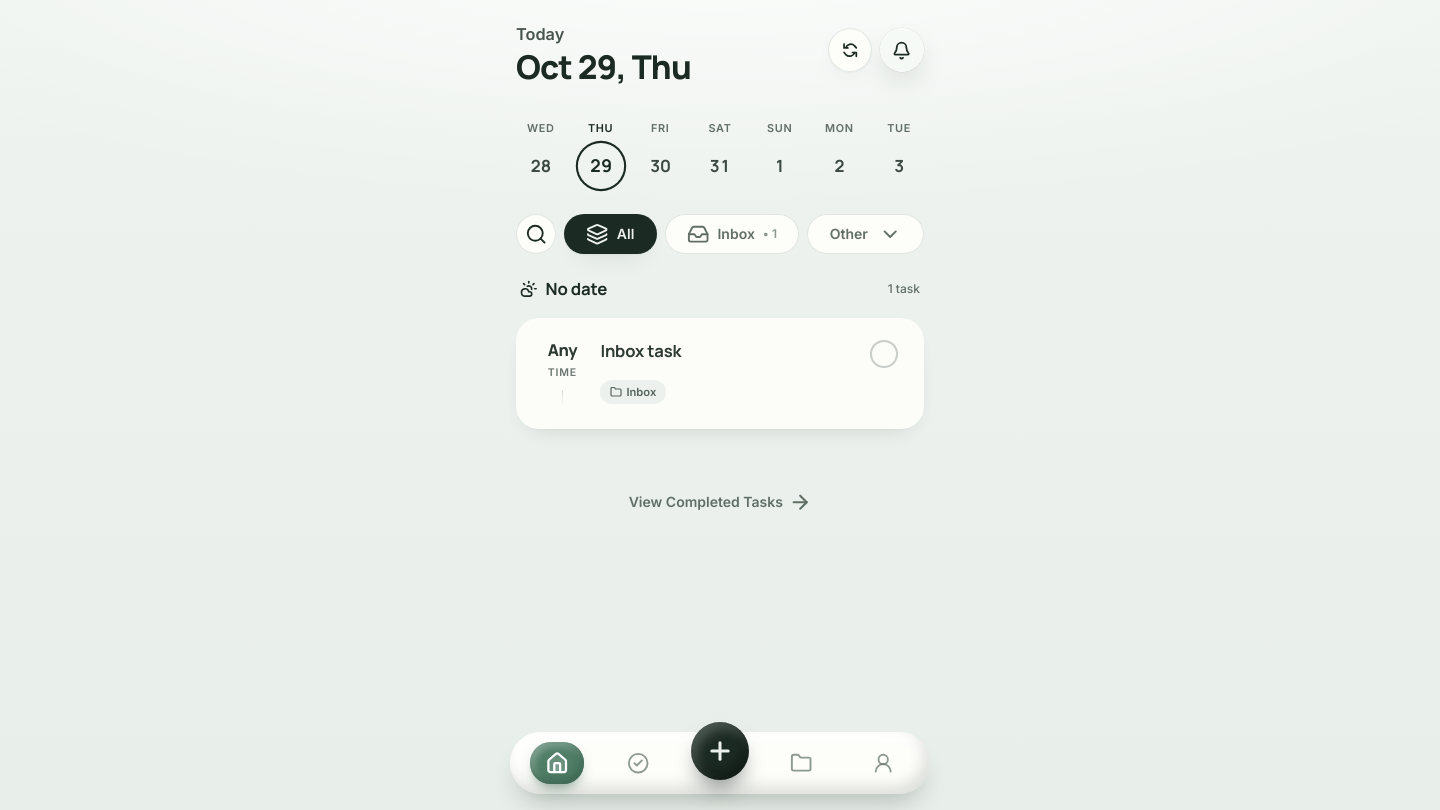
Test: tasks flow › searches all groups and keeps the query visible for empty and failed results
Expected: the heading "Inbox task" is shown, [600,339,681,362]
Click the button named "Search tasks" at [536, 234], box [516,214,556,254]
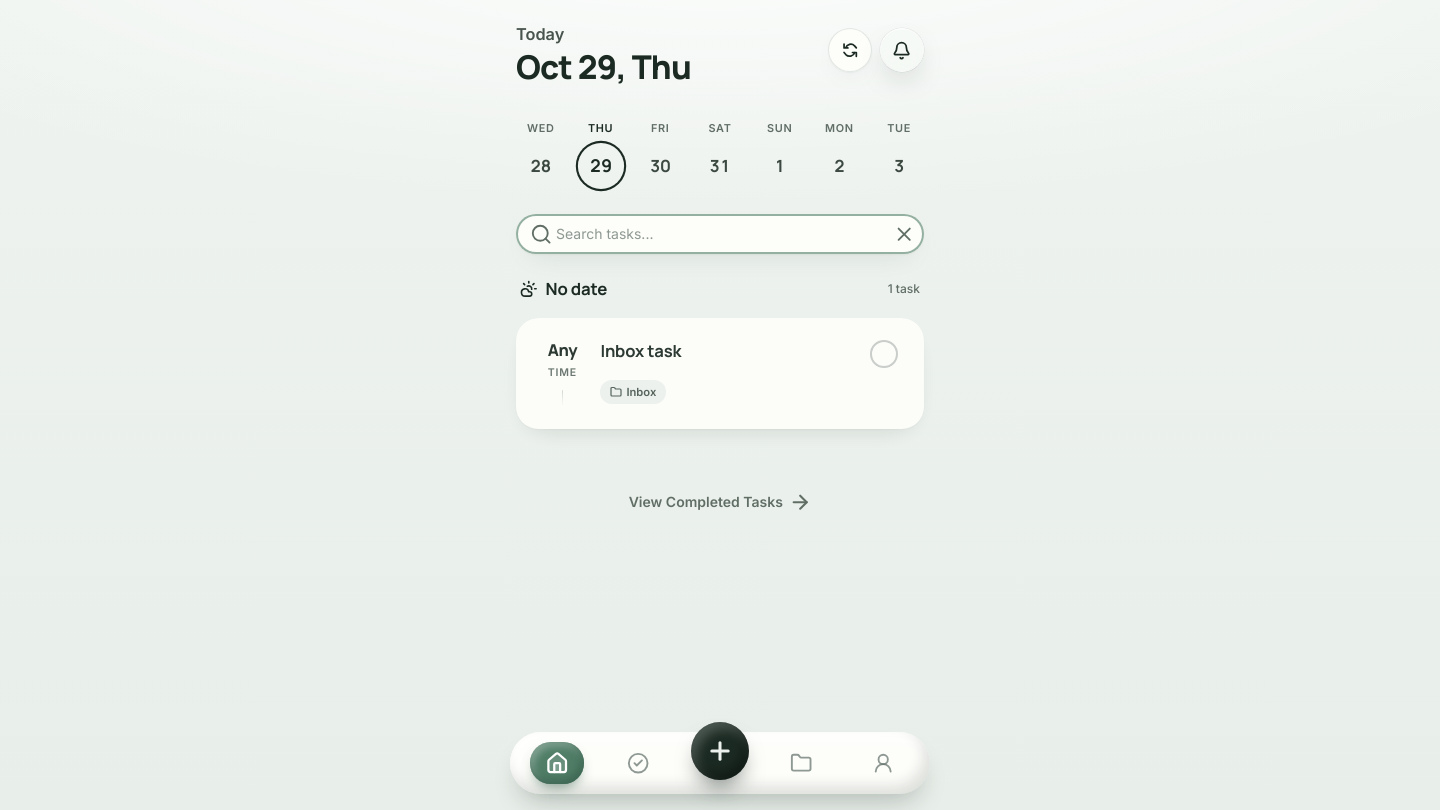
Type "missing" into the field labelled "Search tasks" at [720, 234], box [516,214,924,254]
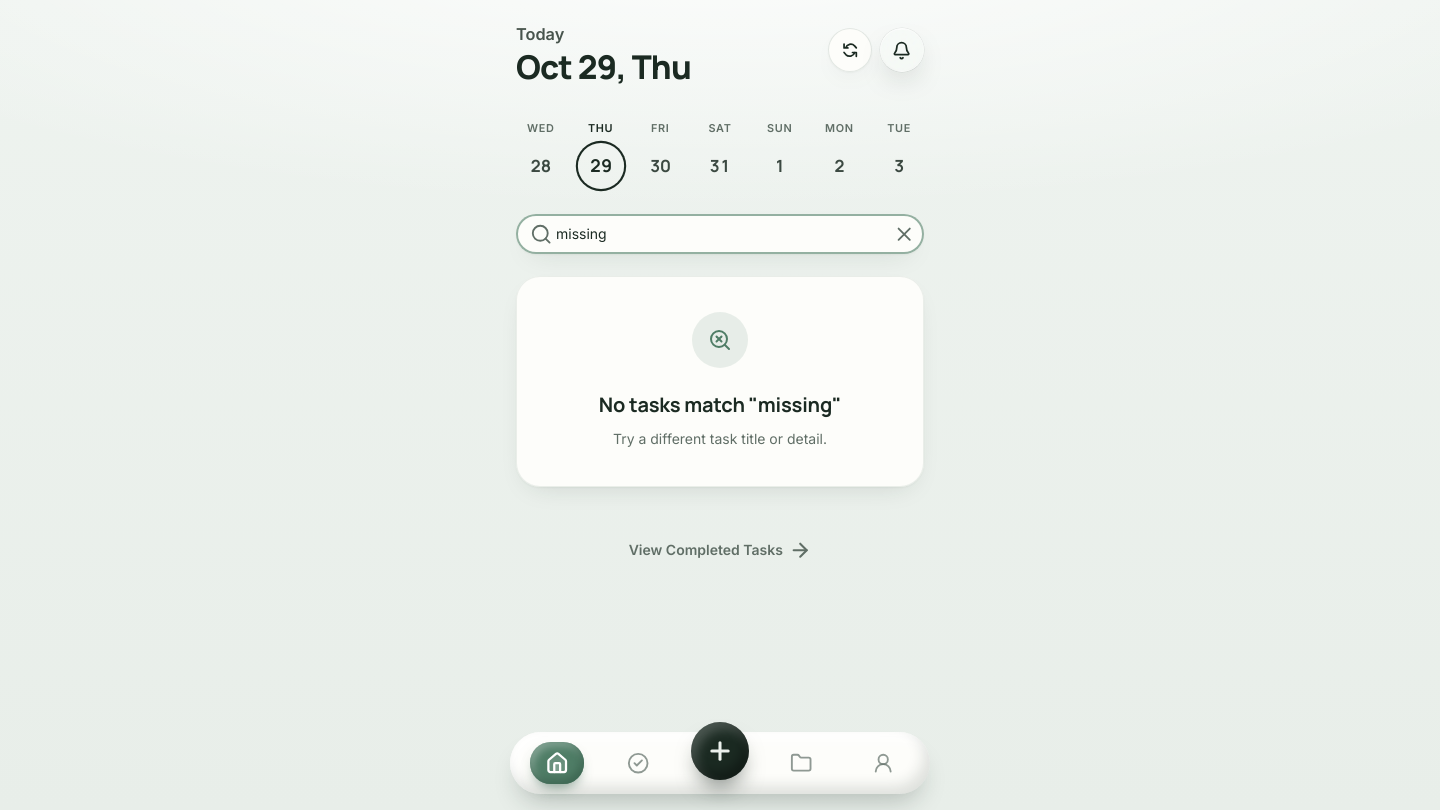
Expected: the text "No tasks match \"missing\"" is shown, [599,391,841,419]
Replace the text in the field named "Search tasks" with "broken" at [720, 234], box [516,214,924,254]
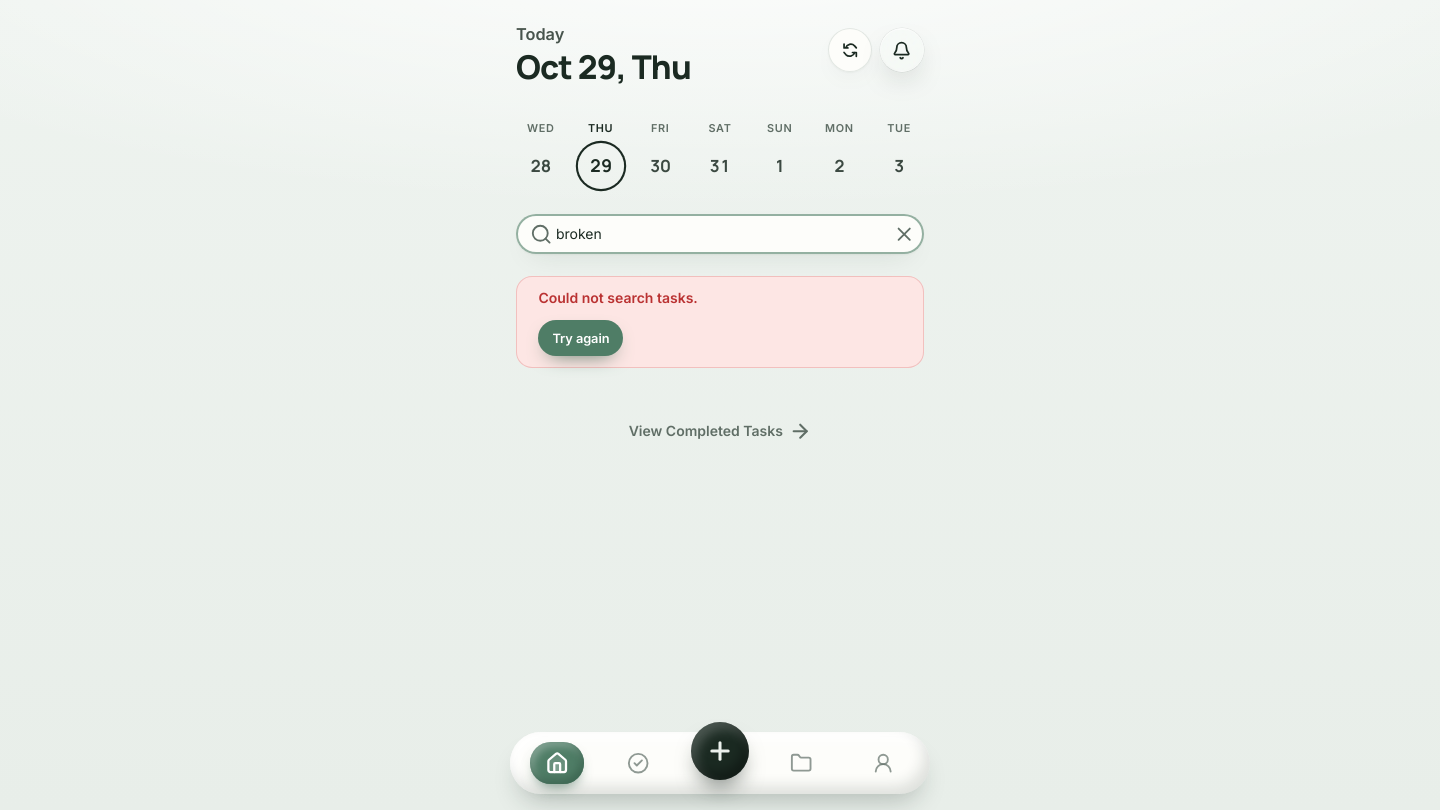
Expected: the text "Could not search tasks." is shown, [538,289,698,306]
